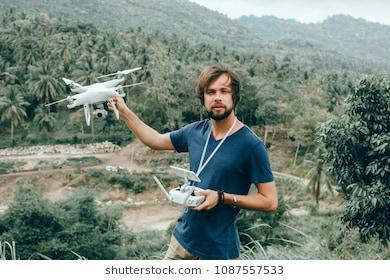drone: (46, 66, 146, 127)
